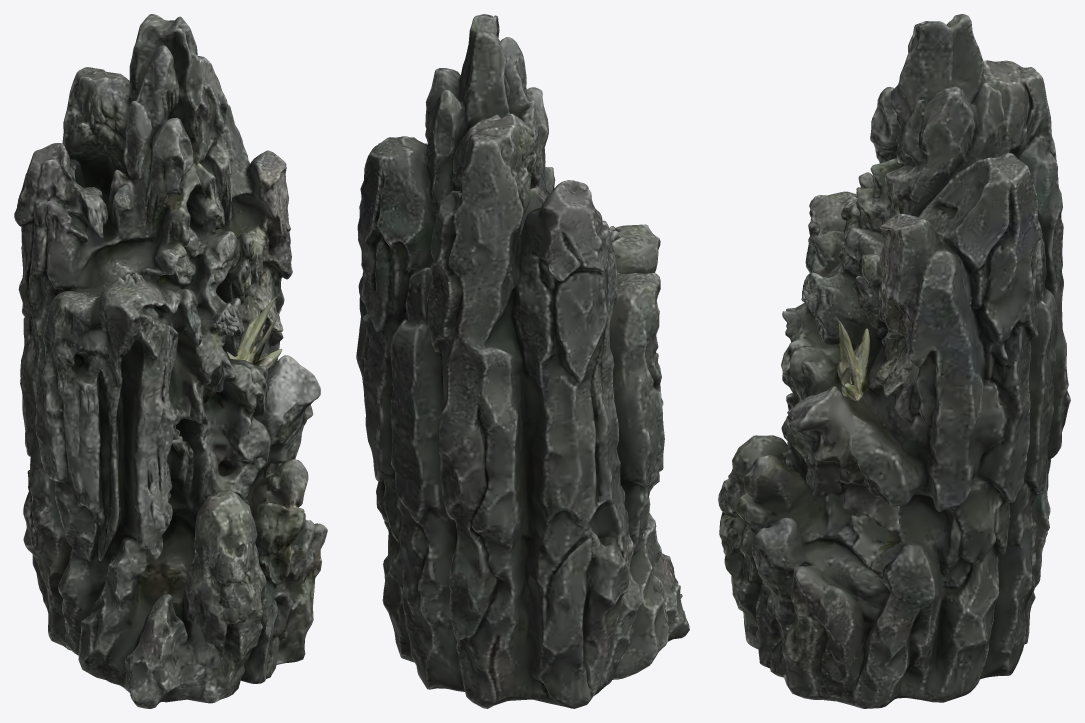
Rendered from JiaShanShi_7.glb.
3 views of the same model, side by side, from view 1: azimuth 30°, elevation 25°; view 2: azimuth 150°, elevation 25°; view 3: azimuth 270°, elevation 25° (orthographic). The views are drawn at different scales.
Visible parts, largest first — view 1: tripo_node_a013509d-ce41-4784-965f-8eb5cfb62600; view 2: tripo_node_a013509d-ce41-4784-965f-8eb5cfb62600; view 3: tripo_node_a013509d-ce41-4784-965f-8eb5cfb62600.
Boxes of the visible parts, x1,y1,x2,y2 form: tripo_node_a013509d-ce41-4784-965f-8eb5cfb62600: (14, 14, 327, 708); tripo_node_a013509d-ce41-4784-965f-8eb5cfb62600: (356, 14, 689, 708); tripo_node_a013509d-ce41-4784-965f-8eb5cfb62600: (718, 14, 1070, 708).
Size of the model in its own units: 0.427 by 0.9784 by 0.4828.
1 material, 1 textured.
